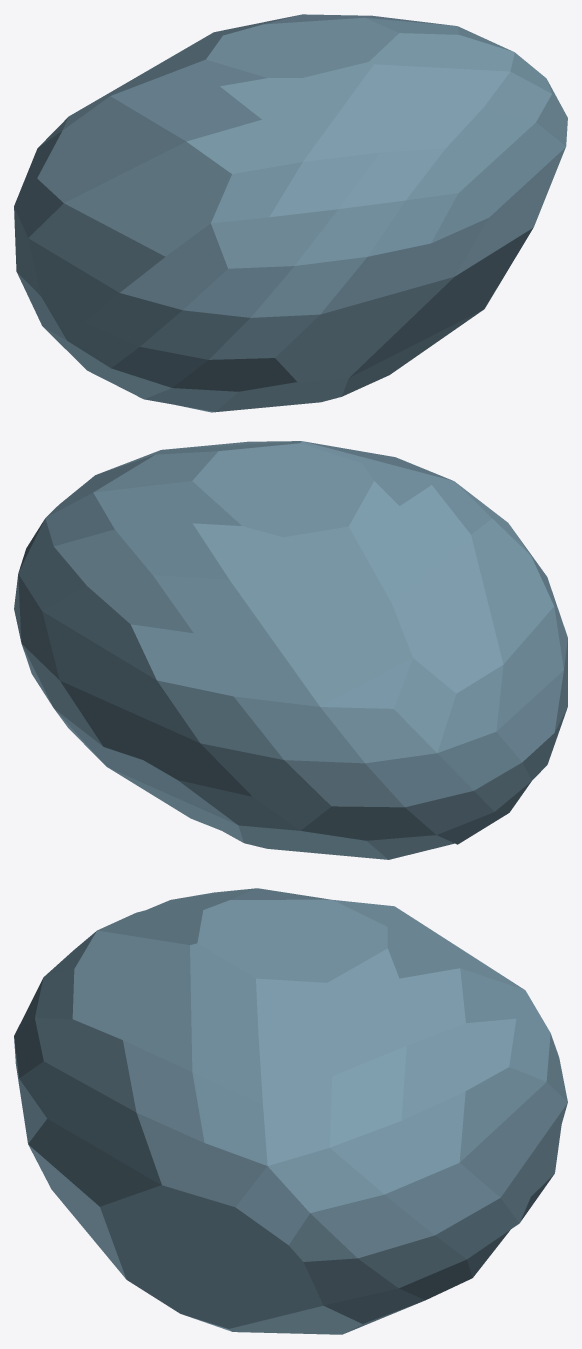
The model's file is rock_001a_reef_boulder.glb.
The picture shows the model from 3 angles, top to bottom: view 1: azimuth 30°, elevation 25°; view 2: azimuth 150°, elevation 25°; view 3: azimuth 270°, elevation 25°; orthographic projection. The views are drawn at different scales.
Parts seen in each view (by area): view 1: rock_001a_reef_boulder__mesh; view 2: rock_001a_reef_boulder__mesh; view 3: rock_001a_reef_boulder__mesh.
Part boxes in pixels (box(x1,y1,x2,y2)): rock_001a_reef_boulder__mesh: box(14, 14, 567, 412); rock_001a_reef_boulder__mesh: box(14, 441, 567, 859); rock_001a_reef_boulder__mesh: box(14, 888, 567, 1334).
Size of the model in its own units: 1.56 by 0.8857 by 1.29.
